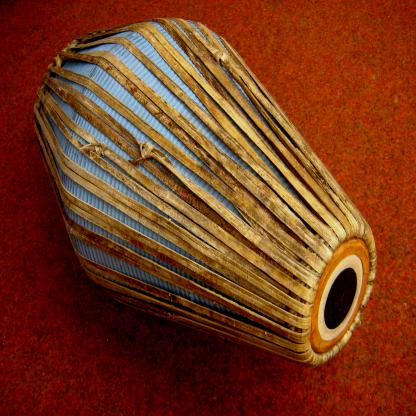Mridangam: (20, 15, 393, 393)
